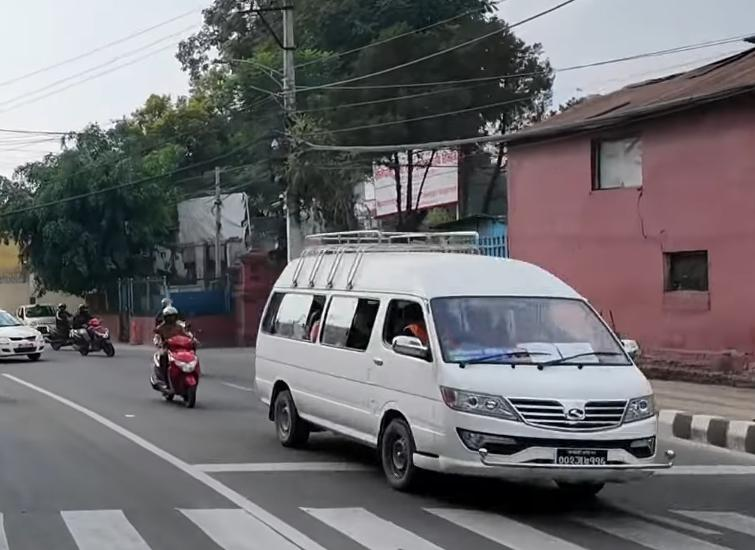car: (0, 308, 48, 366)
micro_bus: (250, 232, 678, 507)
scooter: (145, 333, 210, 413), (65, 316, 116, 359)
